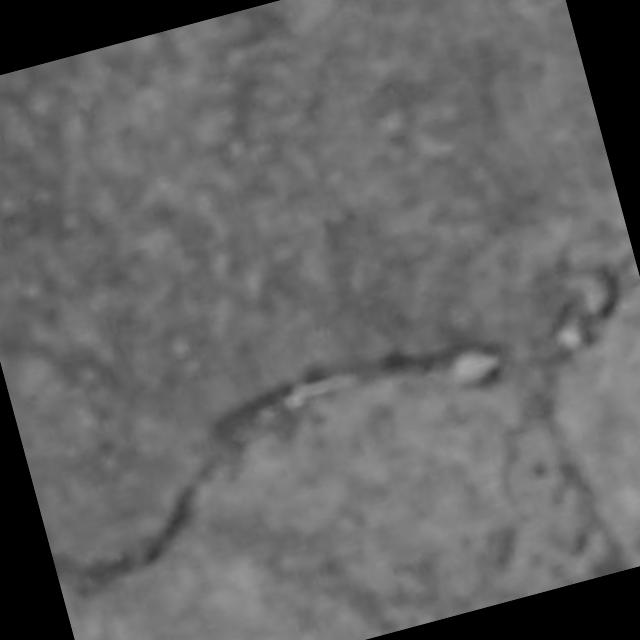crack: (52, 343, 508, 594), (52, 348, 456, 596)
